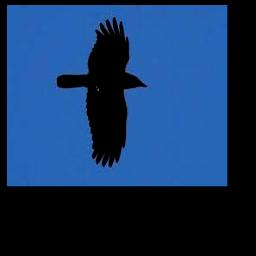Crow: (57, 17, 147, 167)
